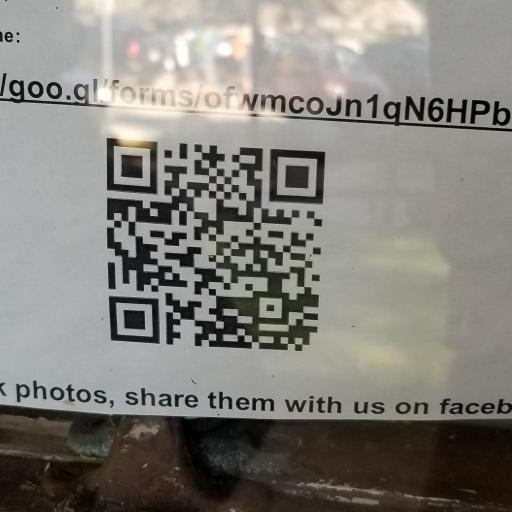qr_code: (106, 138, 325, 352)
